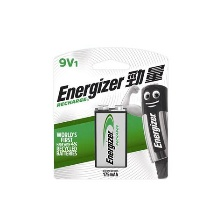battery: (91, 101, 129, 170)
book: (45, 40, 171, 181)
